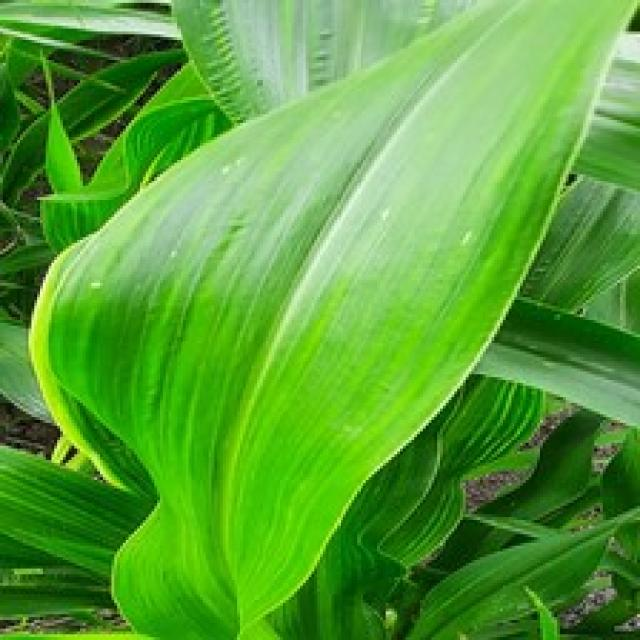Corn: (0, 0, 637, 637), (163, 0, 637, 206)
